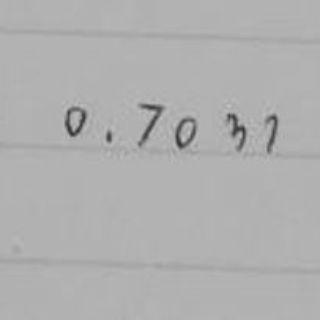.: (100, 126, 117, 147)
0: (173, 112, 200, 153), (62, 104, 89, 139)
1: (264, 112, 281, 154)
3: (223, 110, 249, 153)
7: (133, 100, 168, 150)
